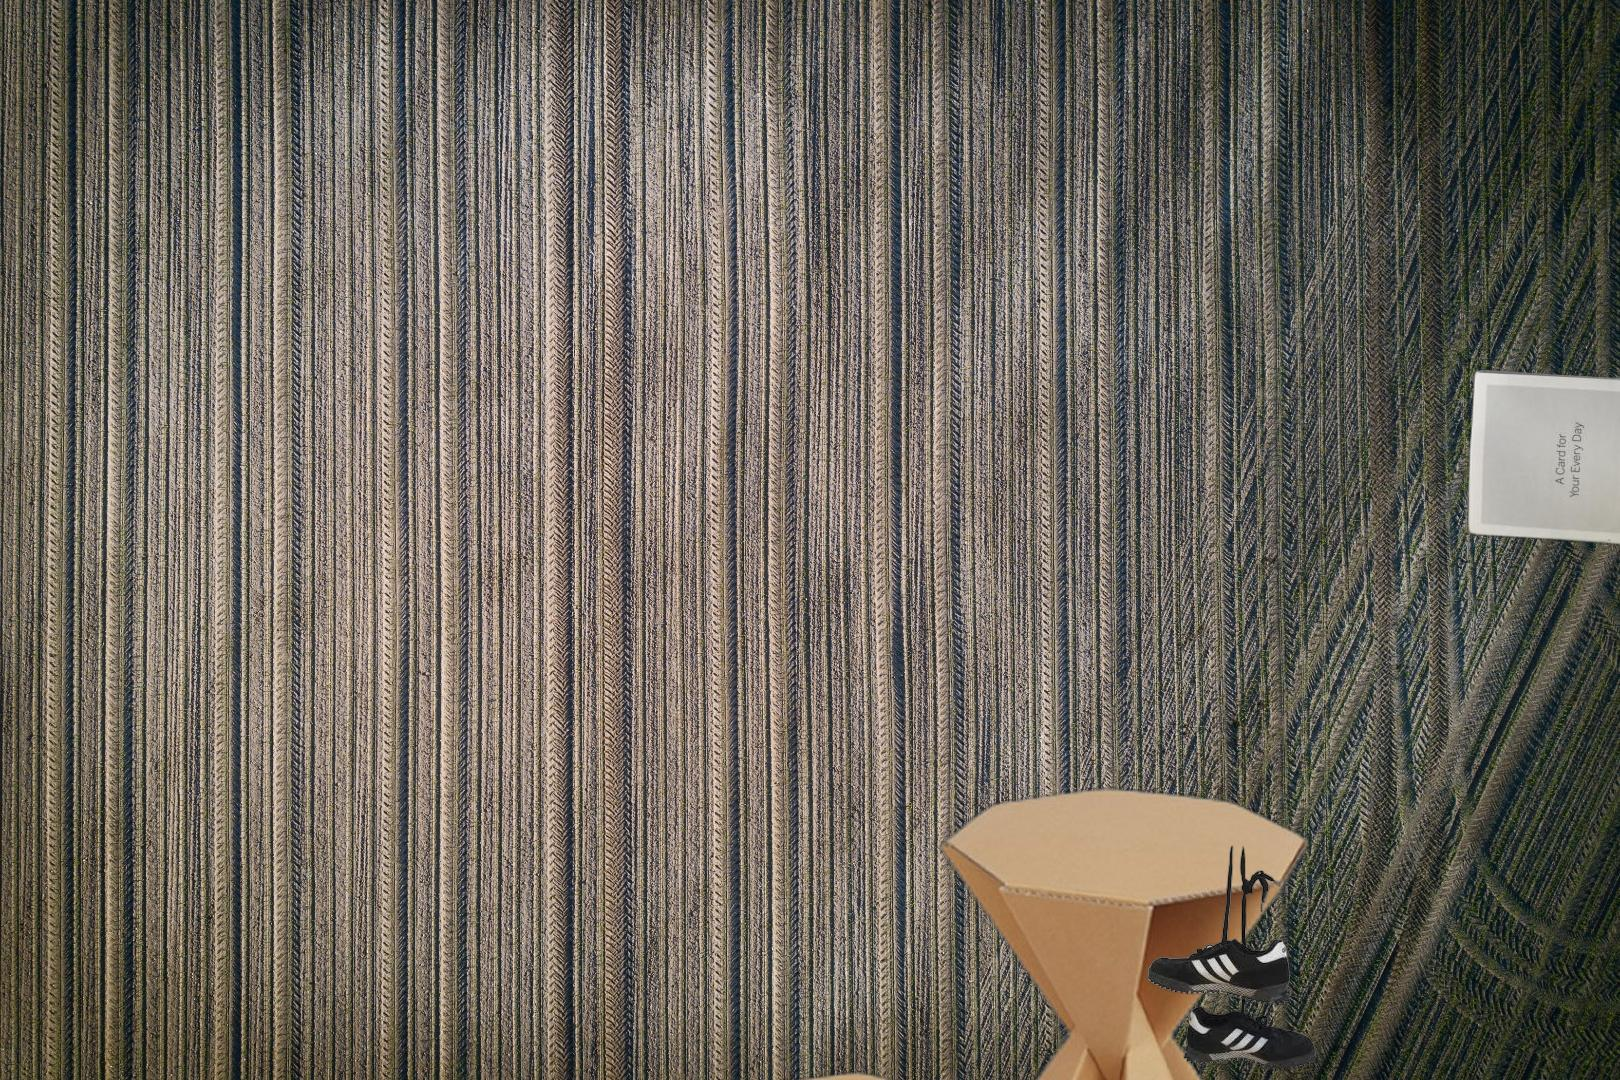paper: (1463, 366, 1620, 567)
shoes: (1145, 844, 1319, 1073)
trashbox-cardboard: (640, 782, 1322, 1080)
